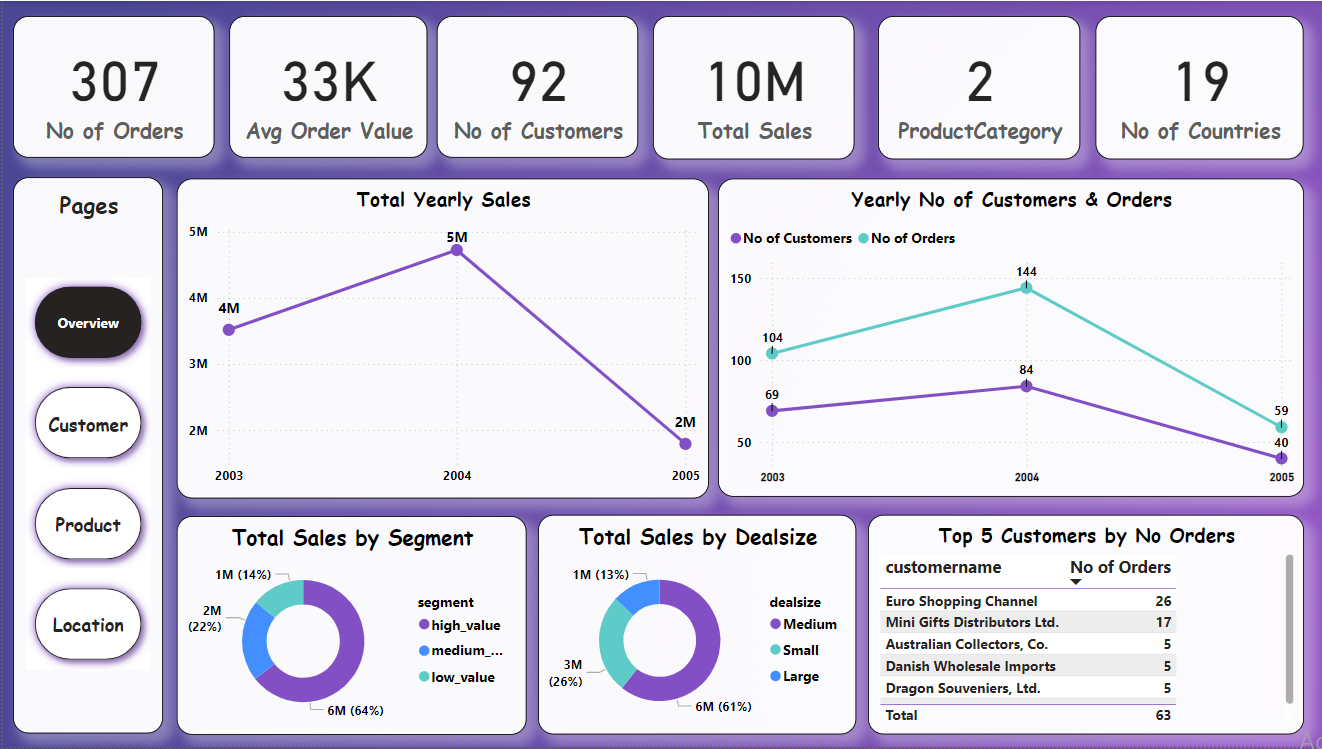

Layout of this report page (visuals, bound fields, positions):
{"tool":"powerbi","page":{"name":"Overview","canvas":[1280,720],"ordinal":0},"visuals":[{"type":"card","fields":{"Values":["My Measures.Total Sales"]},"box":[627,15,194,138],"z":0},{"type":"card","fields":{"Values":["My Measures.No of Orders"]},"box":[10,15,194,137],"z":1000},{"type":"card","fields":{"Values":["My Measures.Avg Order Value"]},"box":[218,15,191,137],"z":2000},{"type":"card","fields":{"Values":["My Measures.No of Customers"]},"box":[419,15,194,137],"z":3000},{"type":"card","fields":{"Values":["My Measures.ProductCategory"]},"box":[844,15,195,138],"z":4000},{"type":"card","fields":{"Values":["My Measures.No of Countries"]},"box":[1054,15,201,138],"z":5000},{"type":"lineChart","title":"Total Yearly Sales","fields":{"Y":["My Measures.Total Sales"],"Category":["sales_data_sample(prepared).orderdate.Variation.Date Hierarchy.Year","sales_data_sample(prepared).orderdate.Variation.Date Hierarchy.Quarter","sales_data_sample(prepared).orderdate.Variation.Date Hierarchy.Month","sales_data_sample(prepared).orderdate.Variation.Date Hierarchy.Day"]},"box":[167.6,171.3,513.8,308.7],"z":6000},{"type":"lineChart","title":"Yearly No of  Customers & Orders","fields":{"Y":["My Measures.No of Customers","My Measures.No of Orders"],"Category":["sales_data_sample(prepared).orderdate.Variation.Date Hierarchy.Year","sales_data_sample(prepared).orderdate.Variation.Date Hierarchy.Quarter","sales_data_sample(prepared).orderdate.Variation.Date Hierarchy.Month","sales_data_sample(prepared).orderdate.Variation.Date Hierarchy.Day"]},"box":[689.8,171.3,565.6,307.5],"z":7000},{"type":"donutChart","title":"Total Sales by Segment","fields":{"Y":["My Measures.Total Sales"],"Category":["sales_data_sample(prepared).segment"]},"box":[167.6,496.9,337.7,211.1],"z":8000},{"type":"donutChart","title":"Total Sales by Dealsize","fields":{"Y":["My Measures.Total Sales"],"Category":["sales_data_sample(prepared).dealsize"]},"box":[516.2,495.7,307.5,212.3],"z":9000},{"type":"tableEx","title":"Top 5 Customers by No Orders","fields":{"Values":["sales_data_sample(prepared).customername","My Measures.No of Orders"]},"box":[834.6,495.7,420.9,212.3],"z":10000},{"type":"textbox","box":[10,170,145,537],"z":11000},{"type":"pageNavigator","box":[22,267,121,378],"z":12000}]}

Visuals, with their boxes in screenshot pixels (x1, y1, x2, y2), scaled from the page's 1280x720 canvas onto the 1322x749 screenshot:
card - My Measures.Total Sales: (x1=648, y1=16, x2=848, y2=159)
card - My Measures.No of Orders: (x1=10, y1=16, x2=211, y2=158)
card - My Measures.Avg Order Value: (x1=225, y1=16, x2=422, y2=158)
card - My Measures.No of Customers: (x1=433, y1=16, x2=633, y2=158)
card - My Measures.ProductCategory: (x1=872, y1=16, x2=1073, y2=159)
card - My Measures.No of Countries: (x1=1089, y1=16, x2=1296, y2=159)
"Total Yearly Sales" lineChart: (x1=173, y1=178, x2=704, y2=499)
"Yearly No of  Customers & Orders" lineChart: (x1=712, y1=178, x2=1297, y2=498)
"Total Sales by Segment" donutChart: (x1=173, y1=517, x2=522, y2=737)
"Total Sales by Dealsize" donutChart: (x1=533, y1=516, x2=851, y2=737)
"Top 5 Customers by No Orders" tableEx: (x1=862, y1=516, x2=1297, y2=737)
textbox: (x1=10, y1=177, x2=160, y2=735)
pageNavigator: (x1=23, y1=278, x2=148, y2=671)
